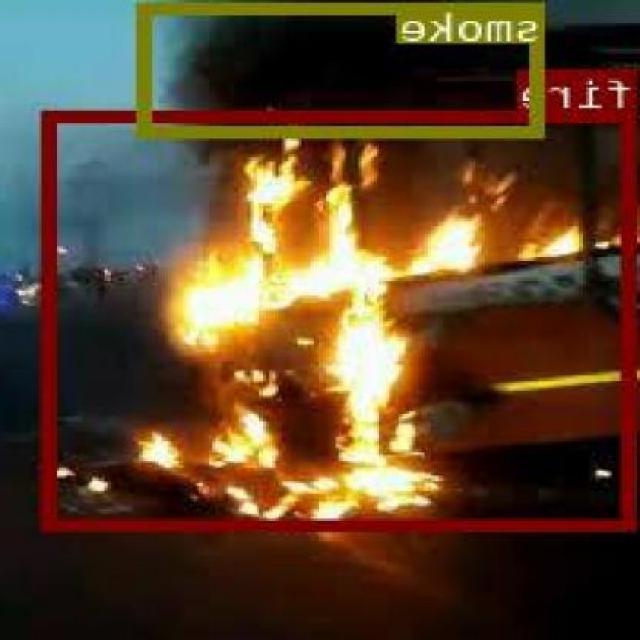Fire: (47, 108, 638, 530)
Smoke: (139, 0, 547, 134)
